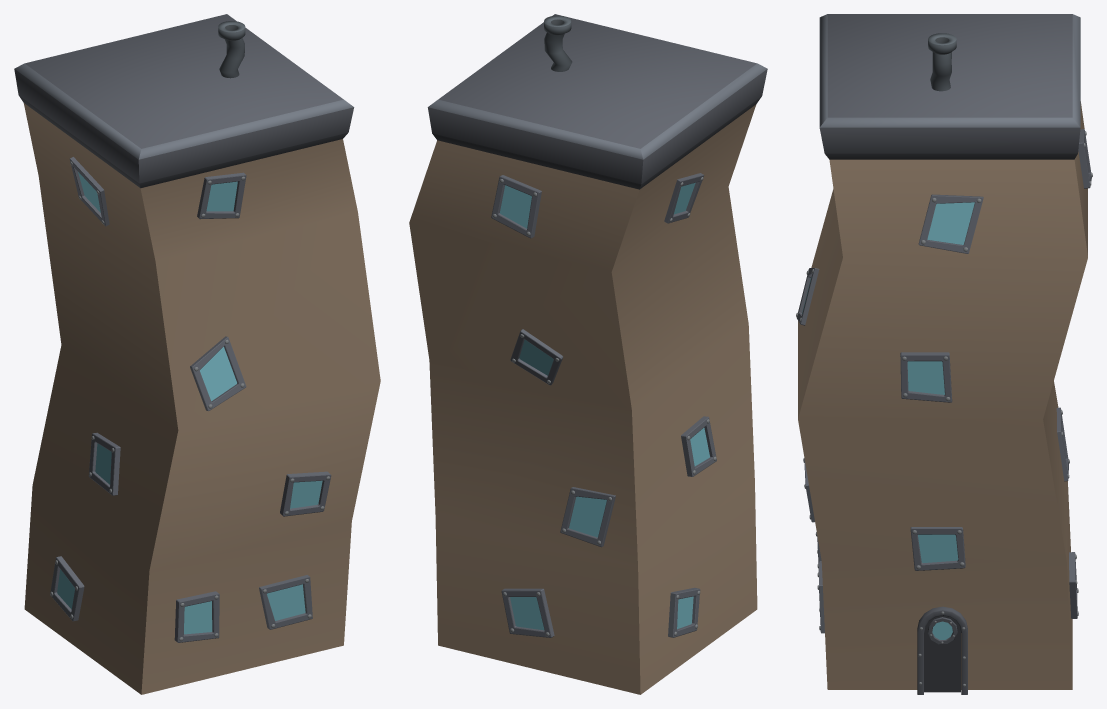
File: building1.fbx
The picture shows the model from 3 angles, left to right: view 1: azimuth 30°, elevation 25°; view 2: azimuth 150°, elevation 25°; view 3: azimuth 270°, elevation 25°; orthographic projection. The views are drawn at different scales.
Parts seen in each view (by area): view 1: sb_bb_bbox2; view 2: sb_bb_bbox2; view 3: sb_bb_bbox2.
Boxes of the visible parts, left/top/right/bottom form: sb_bb_bbox2: left=14, top=14, right=380, bottom=694; sb_bb_bbox2: left=409, top=14, right=767, bottom=694; sb_bb_bbox2: left=796, top=14, right=1092, bottom=694.
Size of the model in its own units: 235 by 560 by 242.
1 material, 1 textured.
